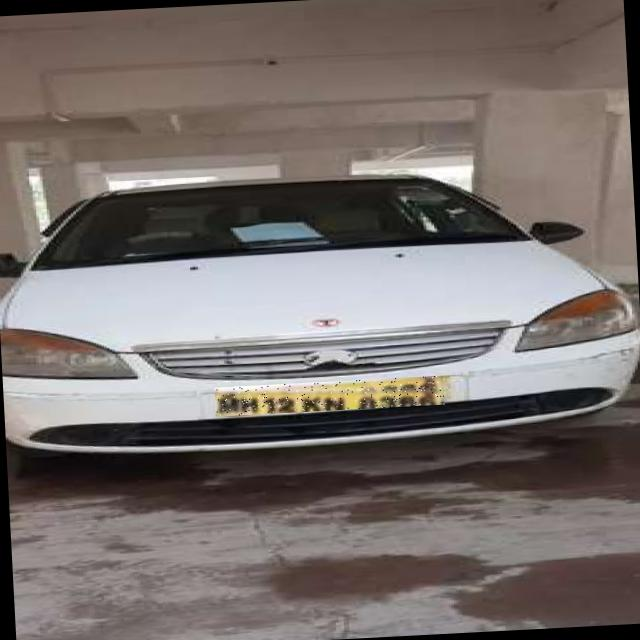Plate: (216, 377, 447, 418)
